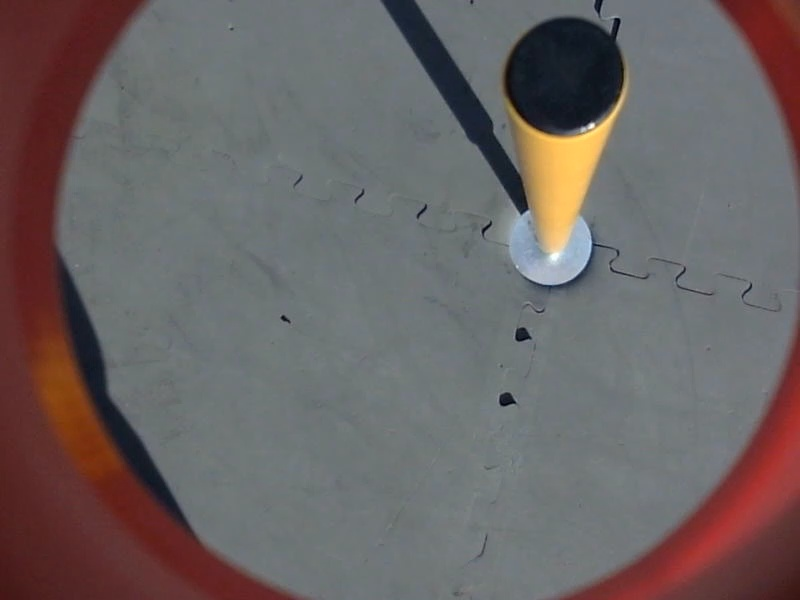tip: (498, 13, 640, 149)
